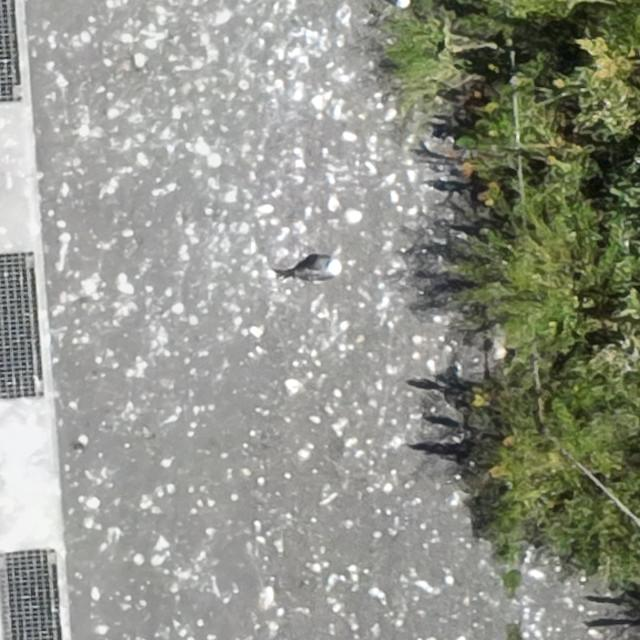umineko: (287, 257, 342, 285), (389, 0, 410, 7)
